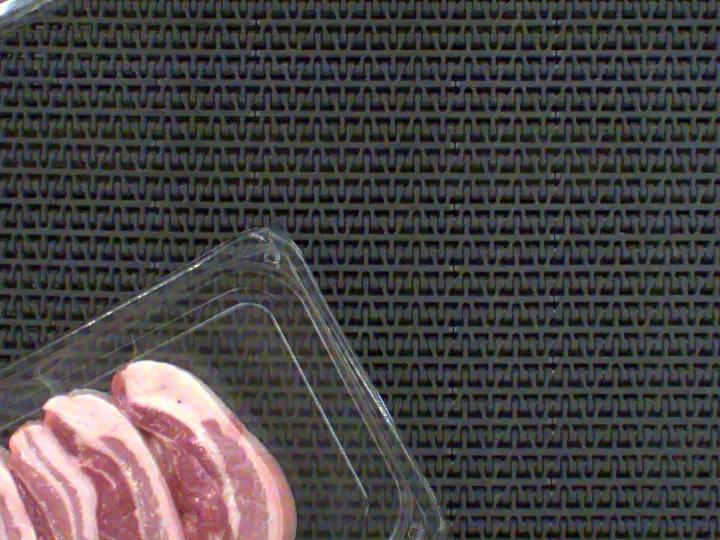packaging-error: (21, 374, 93, 408)
